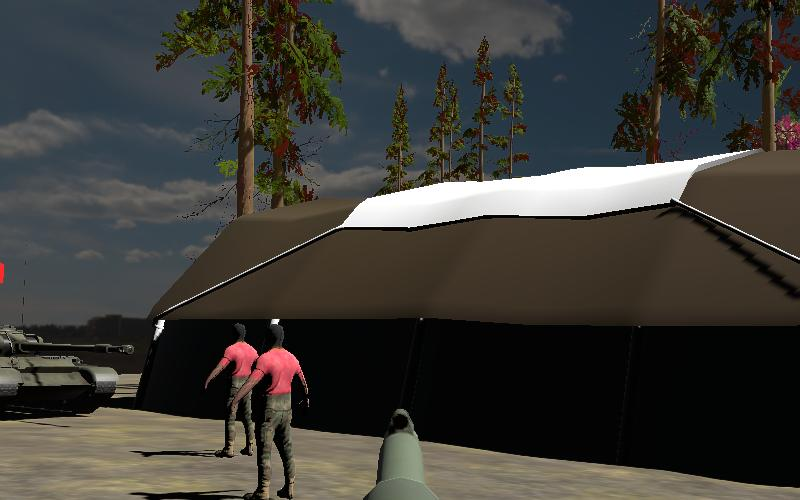Human: (234, 323, 315, 499), (202, 322, 265, 458)
Tank: (0, 319, 135, 420)
